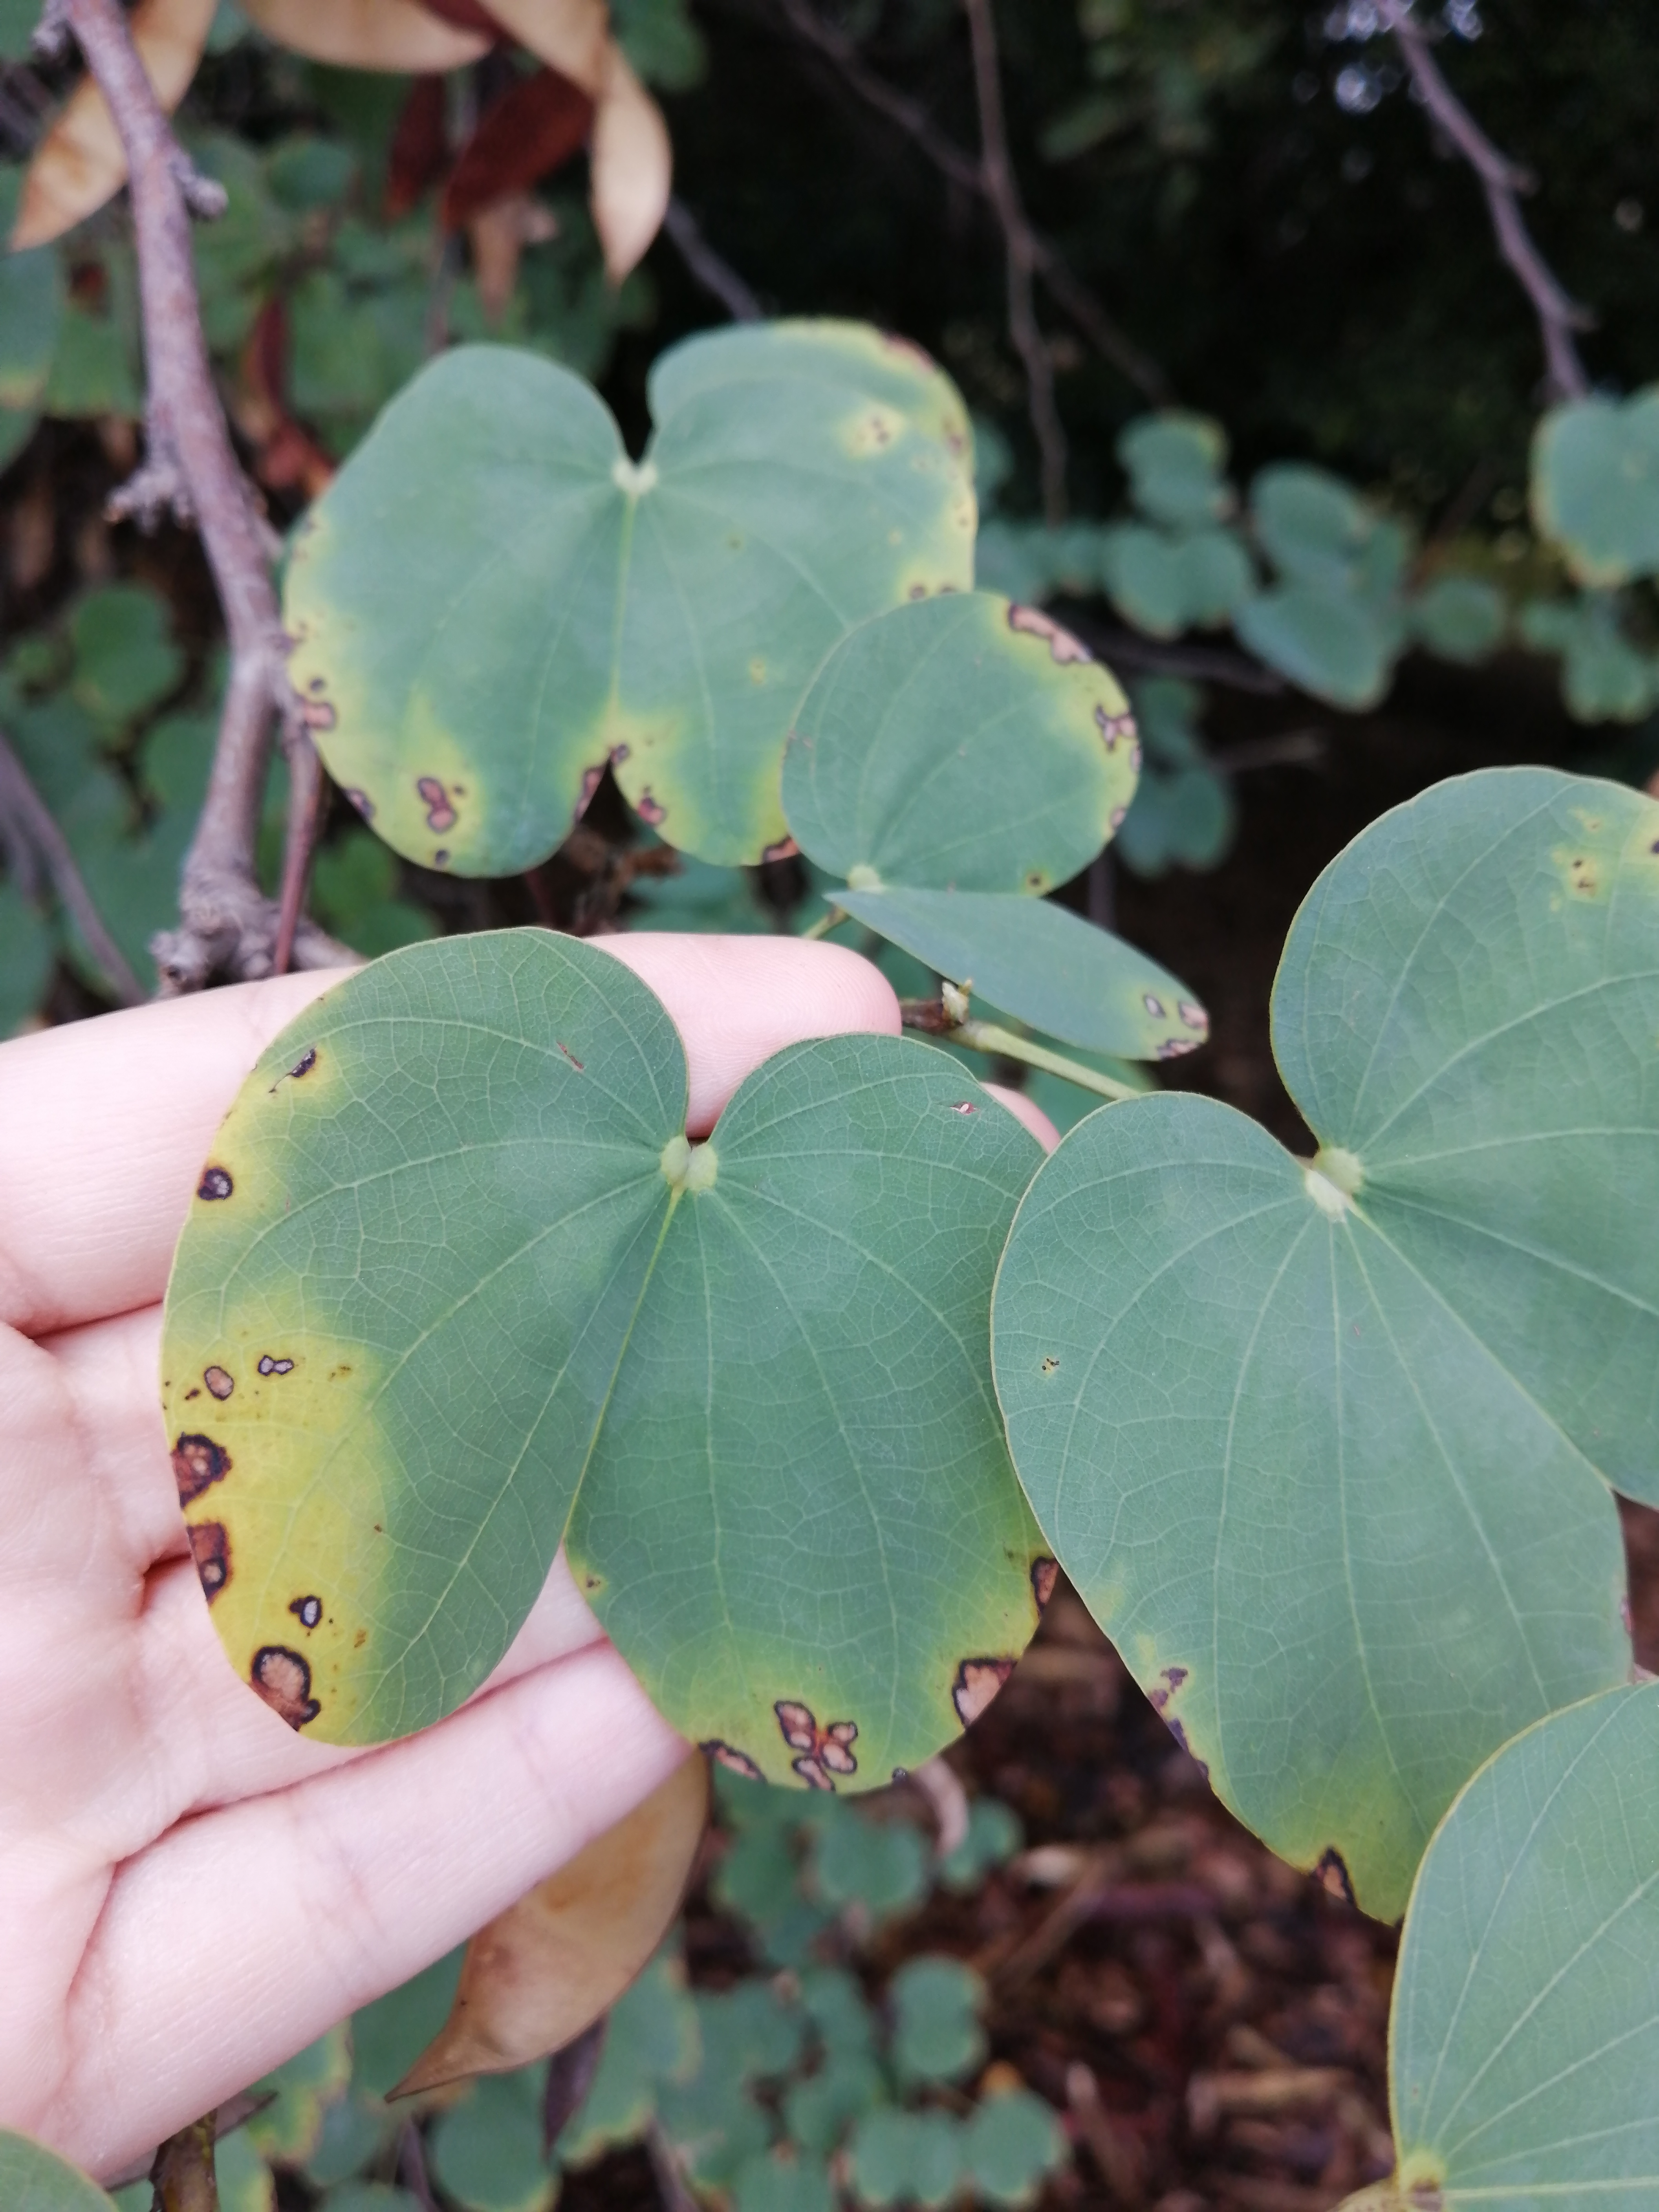nothealthy: (167, 944, 1060, 1836), (275, 333, 965, 895), (774, 585, 1208, 1062)
